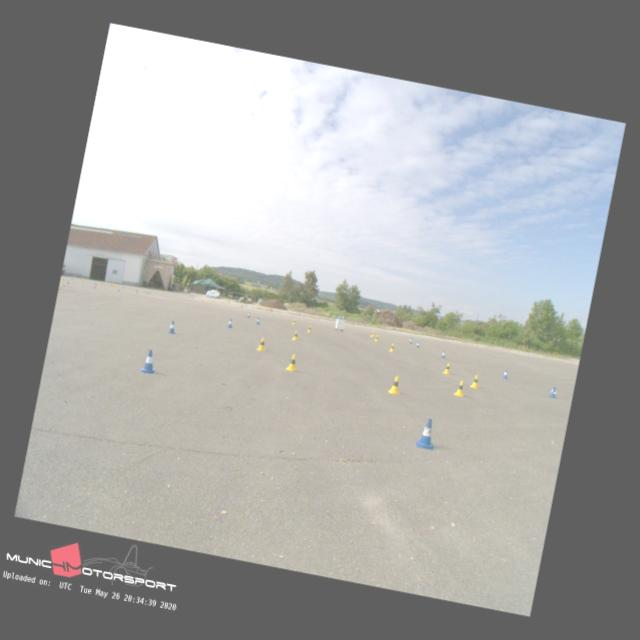blue_cone: (416, 416, 440, 450), (140, 348, 158, 374), (166, 320, 176, 334), (549, 386, 557, 398), (501, 369, 509, 380), (226, 318, 234, 328), (441, 350, 446, 359), (408, 338, 414, 345), (415, 340, 420, 348), (256, 317, 260, 325), (247, 312, 250, 318)
yellow_cone: (388, 374, 403, 394), (285, 353, 299, 371), (454, 380, 466, 396), (256, 336, 266, 352), (469, 374, 480, 388), (442, 362, 452, 374), (292, 328, 300, 341), (390, 343, 396, 352), (374, 334, 380, 342), (292, 318, 296, 326), (308, 326, 312, 334), (370, 331, 374, 337), (373, 330, 376, 336)
